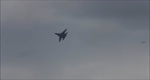maybay_muctieu: (52, 29, 69, 40)
